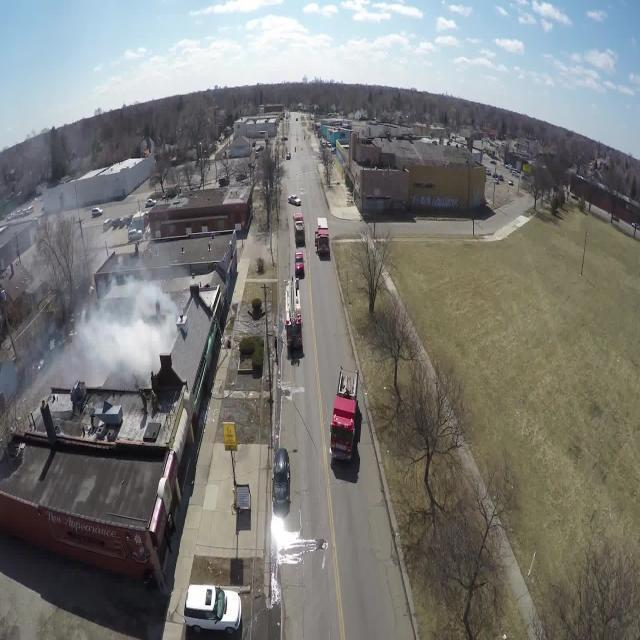Smoke: (49, 268, 183, 383)
